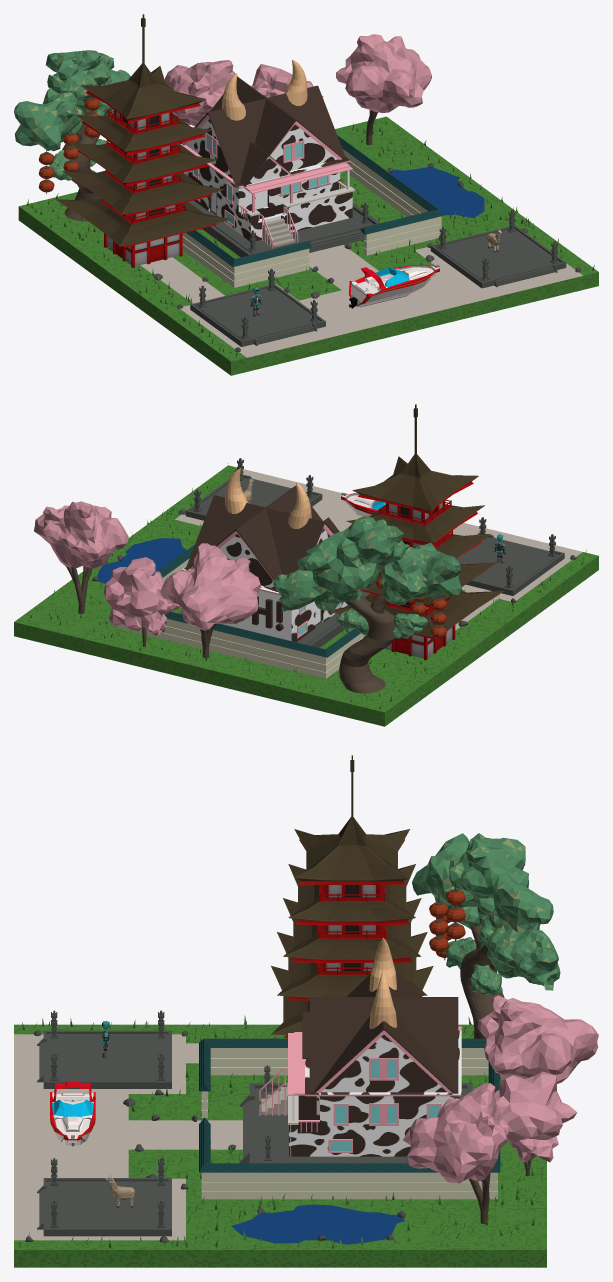
The picture shows the model from 3 angles, top to bottom: view 1: azimuth 30°, elevation 25°; view 2: azimuth 150°, elevation 25°; view 3: azimuth 270°, elevation 25°; orthographic projection. The views are drawn at different scales.
Parts seen in each view (by area): view 1: Cube.005, Cube.1242, VEHICLES_BOAT; view 2: Cube.005, Cube.1242, VEHICLES_BOAT; view 3: Cube.005, Cube.1242, VEHICLES_BOAT.
Part boxes in pixels (x1=…): Cube.005: x1=14, y1=14, x2=598, y2=375; Cube.1242: x1=179, y1=59, x2=355, y2=248; VEHICLES_BOAT: x1=348, y1=264, x2=439, y2=308; Cube.005: x1=14, y1=404, x2=598, y2=726; Cube.1242: x1=181, y1=468, x2=347, y2=642; VEHICLES_BOAT: x1=341, y1=492, x2=385, y2=516; Cube.005: x1=14, y1=755, x2=598, y2=1267; Cube.1242: x1=259, y1=938, x2=461, y2=1156; VEHICLES_BOAT: x1=50, y1=1081, x2=95, y2=1146.
Size of the model in its own units: 4528 by 2698 by 4389.
Materials: 41 (5 with a texture image).
